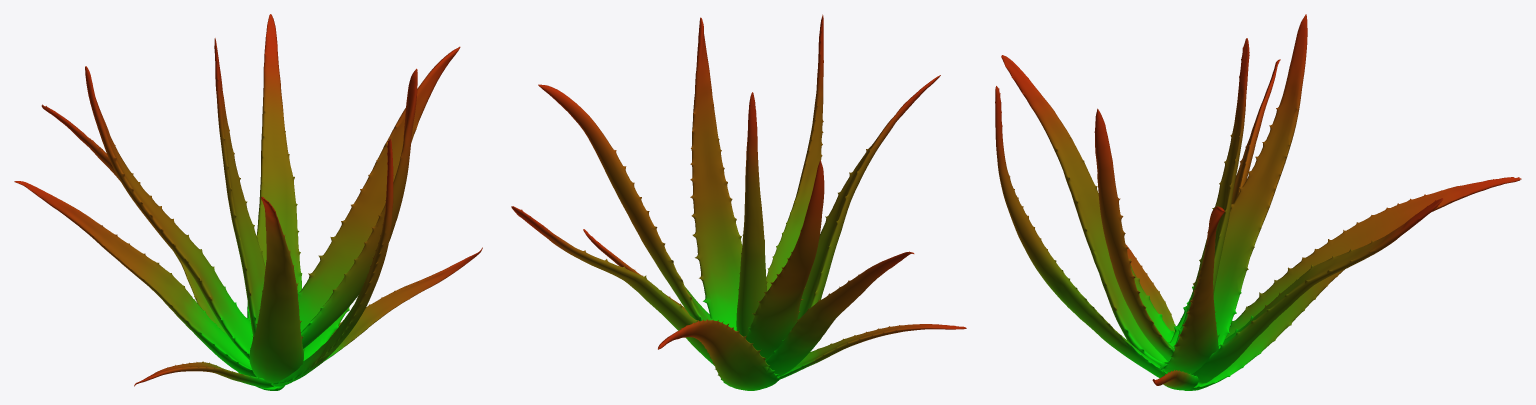
Rendered from Aloe Vera_LOD0_Var3_ve4tbbrha.fbx.
3 views of the same model, side by side, from view 1: azimuth 30°, elevation 25°; view 2: azimuth 150°, elevation 25°; view 3: azimuth 270°, elevation 25° (orthographic). The views are drawn at different scales.
Parts seen in each view (by area): view 1: _aihu_Var3_LOD0; view 2: _aihu_Var3_LOD0; view 3: _aihu_Var3_LOD0.
Boxes of the visible parts, x1,y1,x2,y2 form: _aihu_Var3_LOD0: (14, 14, 482, 390); _aihu_Var3_LOD0: (511, 14, 966, 390); _aihu_Var3_LOD0: (995, 14, 1521, 390).
Size of the model in its own units: 52.85 by 40.37 by 57.13.
